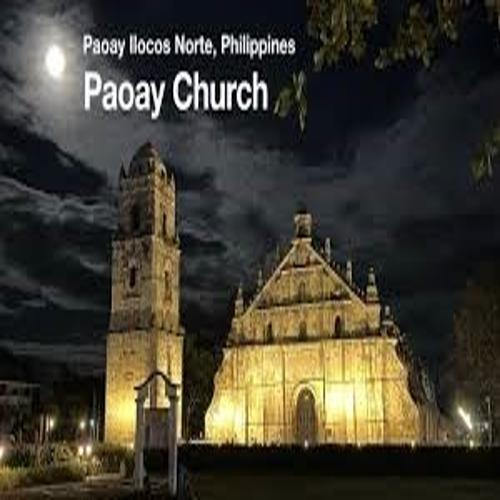Paoay Church: (91, 129, 443, 456)
